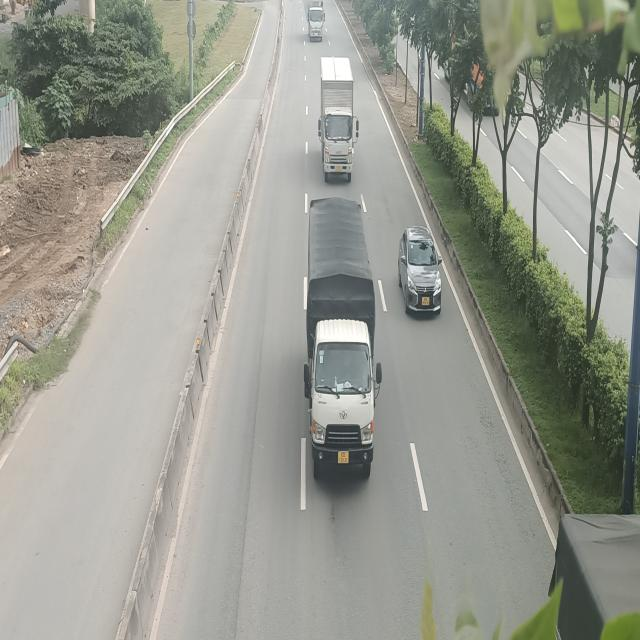car: (398, 226, 443, 314)
truck: (304, 195, 382, 472), (317, 57, 359, 178), (307, 2, 325, 41)
